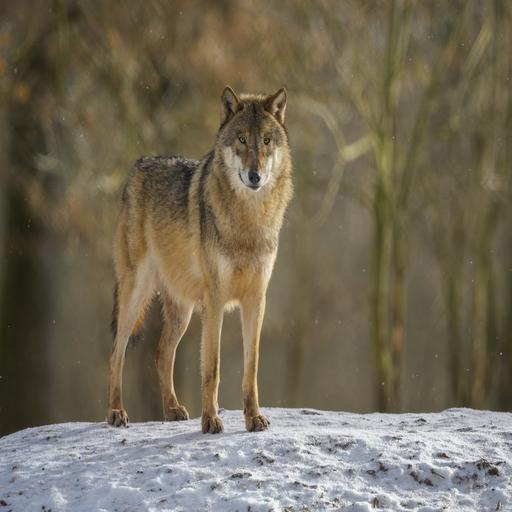Wolf: (103, 82, 300, 435)
